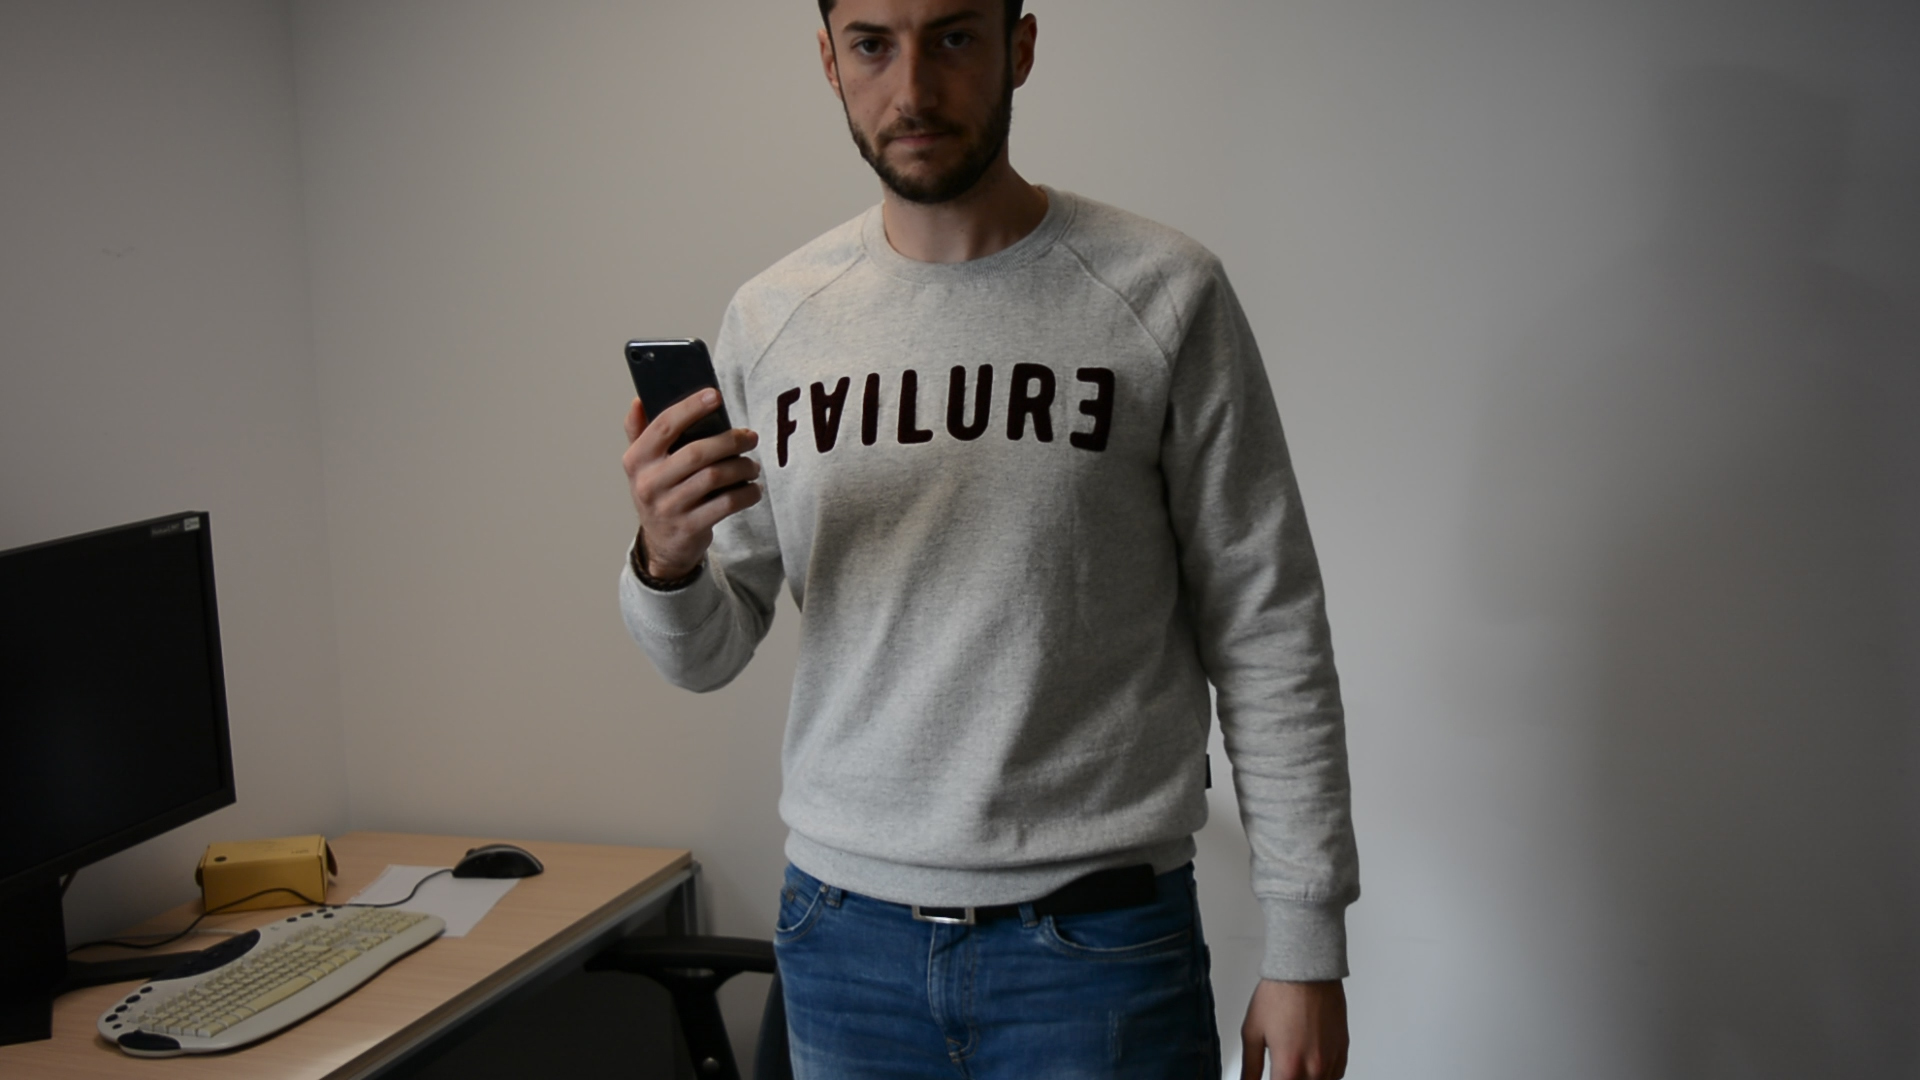smartphone: (624, 335, 750, 506)
